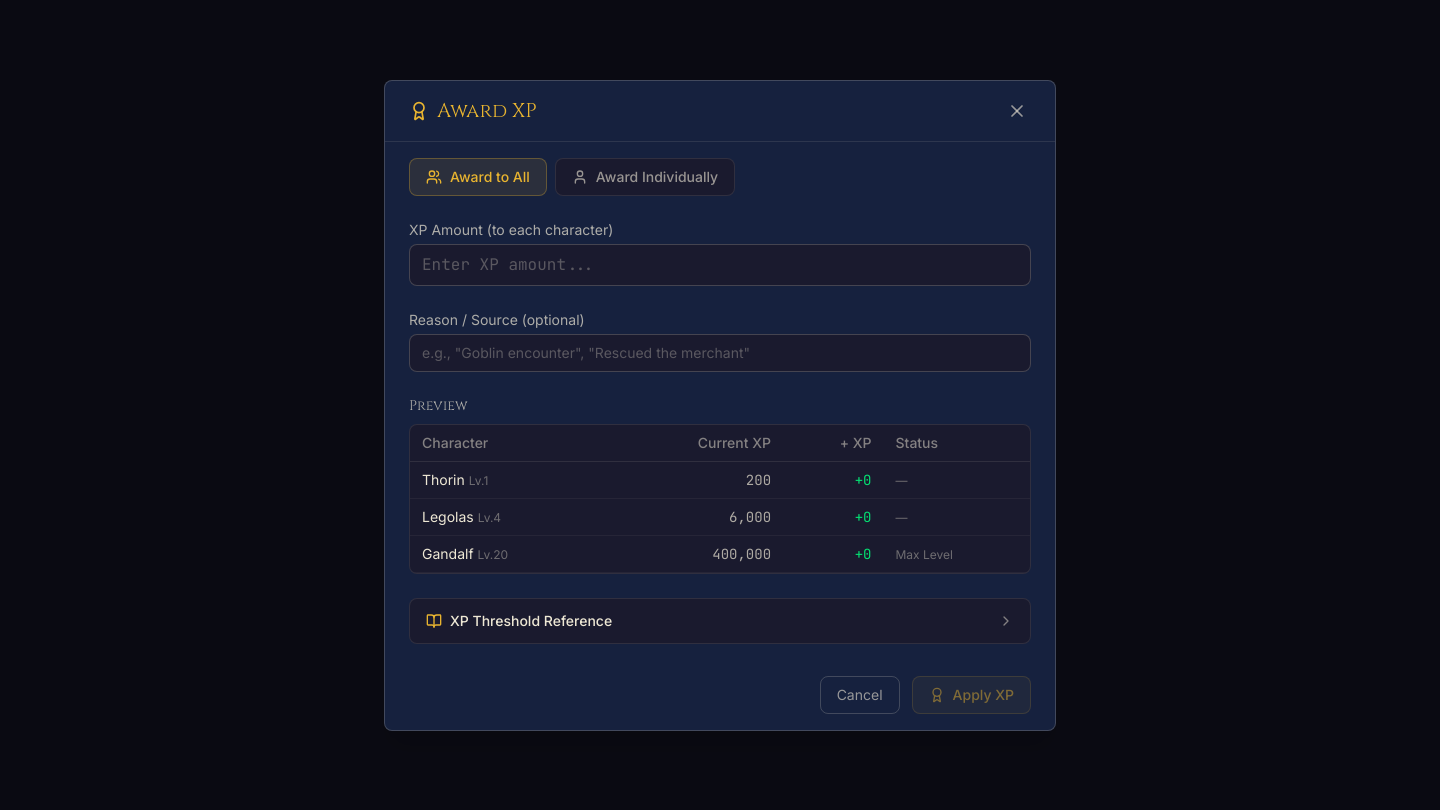
Test case: XPAward › should highlight characters crossing level threshold
Type "200" into the number field with test id "global-xp-input" at (720, 264), box top-left (409, 244), bottom-right (1031, 286)
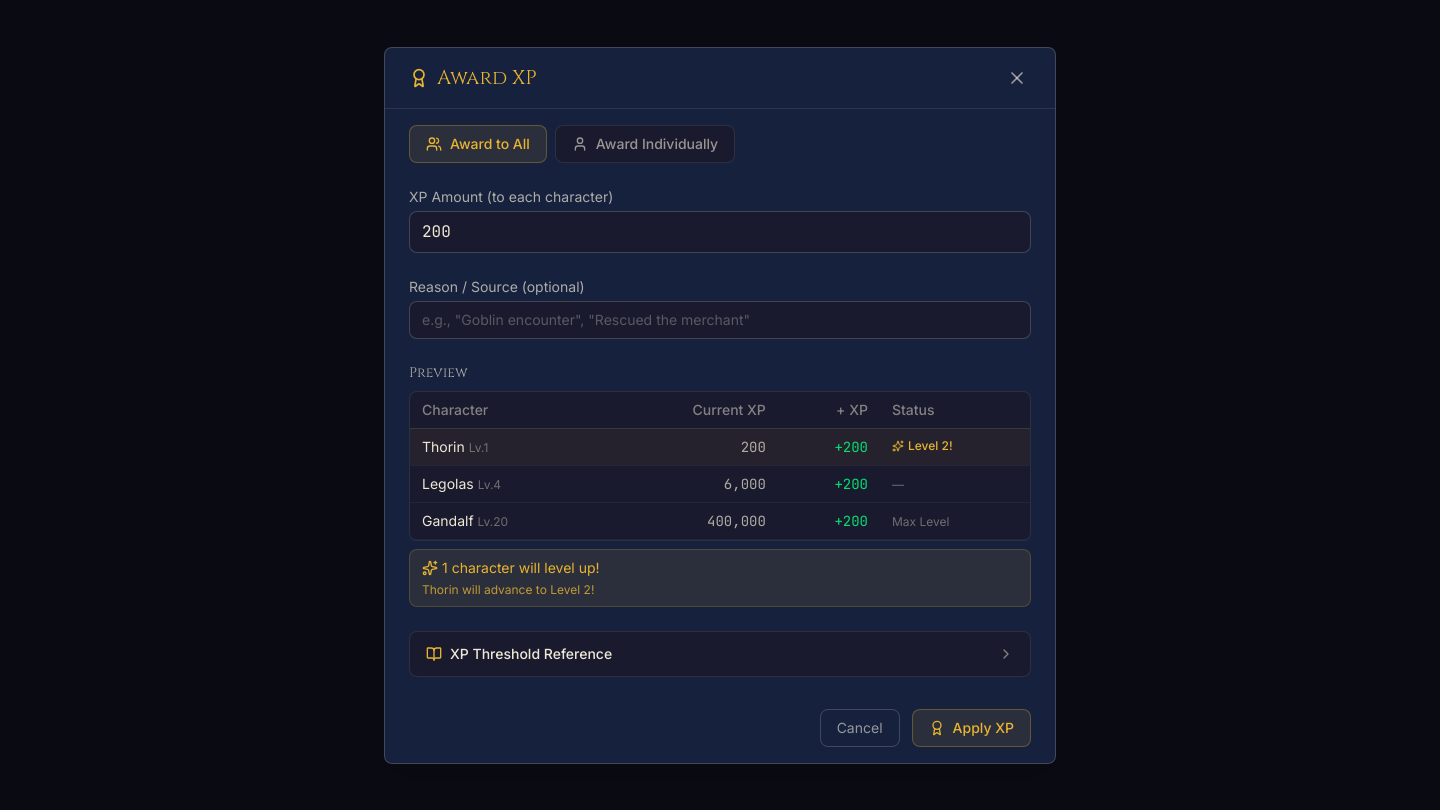
Now the text "Level 2!" is shown, box top-left (892, 438), bottom-right (953, 454)
